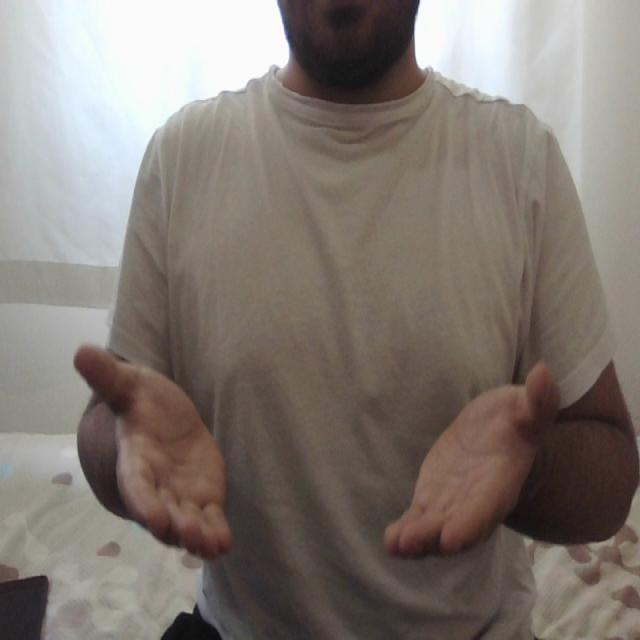Evet: (67, 336, 565, 562)
